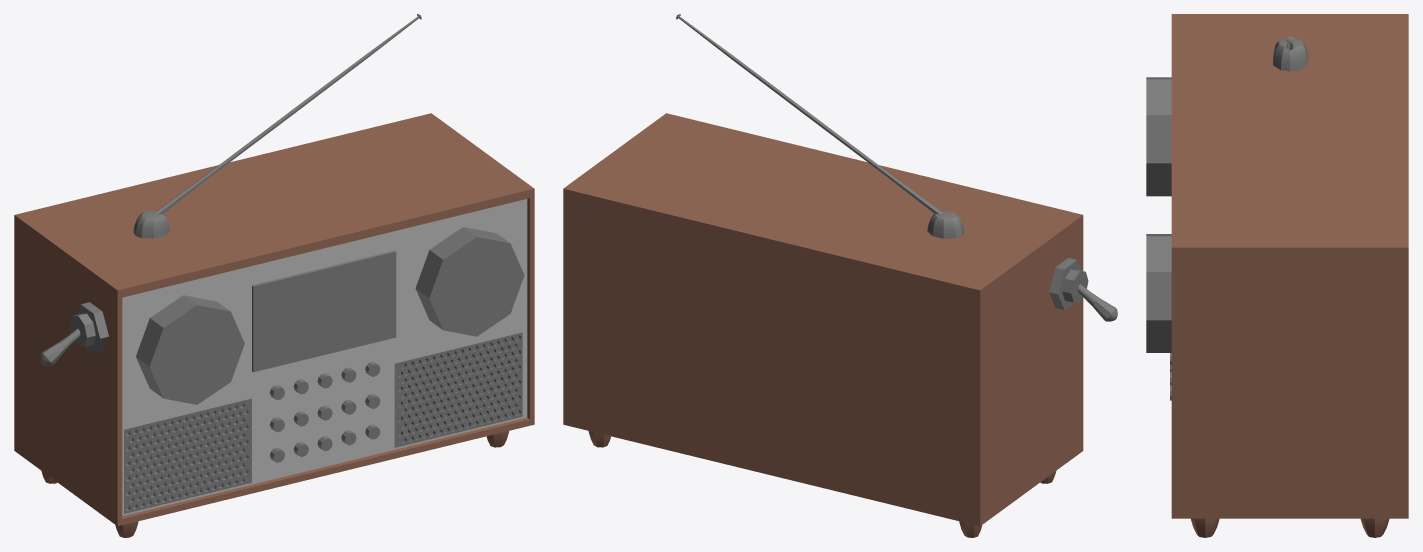
The model's file is Radio.fbx.
3 renders of one model, left to right at view 1: azimuth 30°, elevation 25°; view 2: azimuth 150°, elevation 25°; view 3: azimuth 270°, elevation 25°, orthographic. The views are drawn at different scales.
Visible parts, largest first — view 1: gehaeuse, vorderseite, pPlane2, display, regler_R, regler_L, pCylinder13, pCylinder55, pCylinder54, pCylinder56, pCylinder57, fuesse; view 2: gehaeuse, pCylinder55, pCylinder54, pCylinder56; view 3: gehaeuse, regler_L, regler_R, pCylinder54, fuesse.
Boxes of the visible parts, x1,y1,x2,y2 form: gehaeuse: (14,113,534,526); vorderseite: (122,199,527,516); pPlane2: (124,332,522,513); display: (252,250,396,372); regler_R: (415,227,524,336); regler_L: (136,295,244,404); pCylinder13: (270,362,380,462); pCylinder55: (154,14,421,214); pCylinder54: (133,210,170,238); pCylinder56: (76,302,108,353); pCylinder57: (69,313,95,346); fuesse: (41,431,508,537); gehaeuse: (563,113,1083,526); pCylinder55: (676,14,942,214); pCylinder54: (927,210,964,238); pCylinder56: (1049,258,1081,309); gehaeuse: (1171,14,1408,518); regler_L: (1146,77,1171,196); regler_R: (1146,234,1171,352); pCylinder54: (1273,38,1307,71); fuesse: (1191,518,1389,537).
Bounding box in the file's own units: 39.6 × 33.17 × 16.6.
